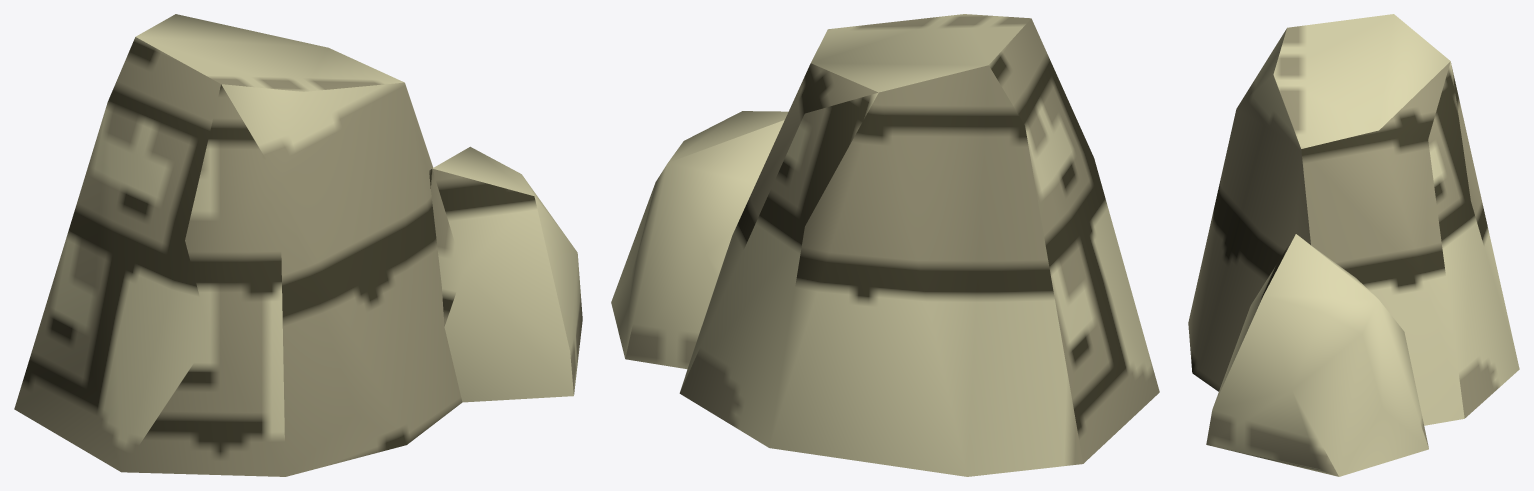
File: boulder_v1.fbx
The picture shows the model from 3 angles, left to right: view 1: azimuth 30°, elevation 25°; view 2: azimuth 150°, elevation 25°; view 3: azimuth 270°, elevation 25°; orthographic projection. The views are drawn at different scales.
Visible parts, largest first — view 1: prop; view 2: prop; view 3: prop.
Boxes of the visible parts, box(x1,y1,x2,y2) form: prop: box(14, 14, 582, 476); prop: box(611, 14, 1159, 476); prop: box(1188, 14, 1519, 476).
Size of the model in its own units: 1.2 by 0.7967 by 0.8032.
